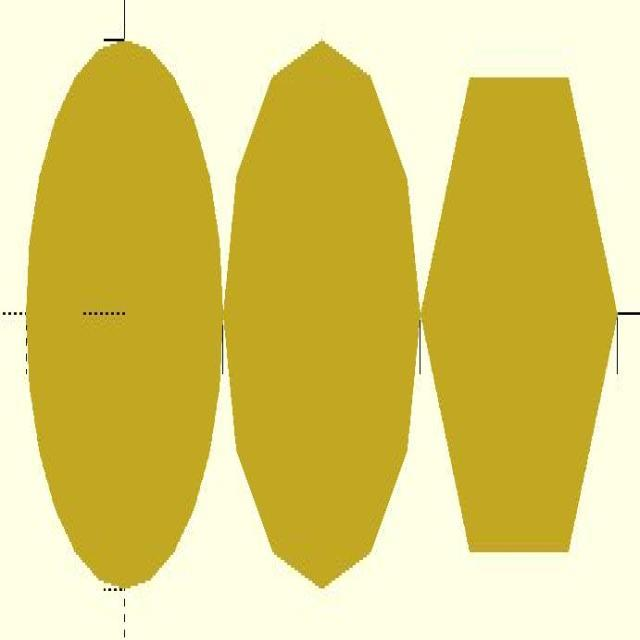Circle: (26, 42, 222, 587)
